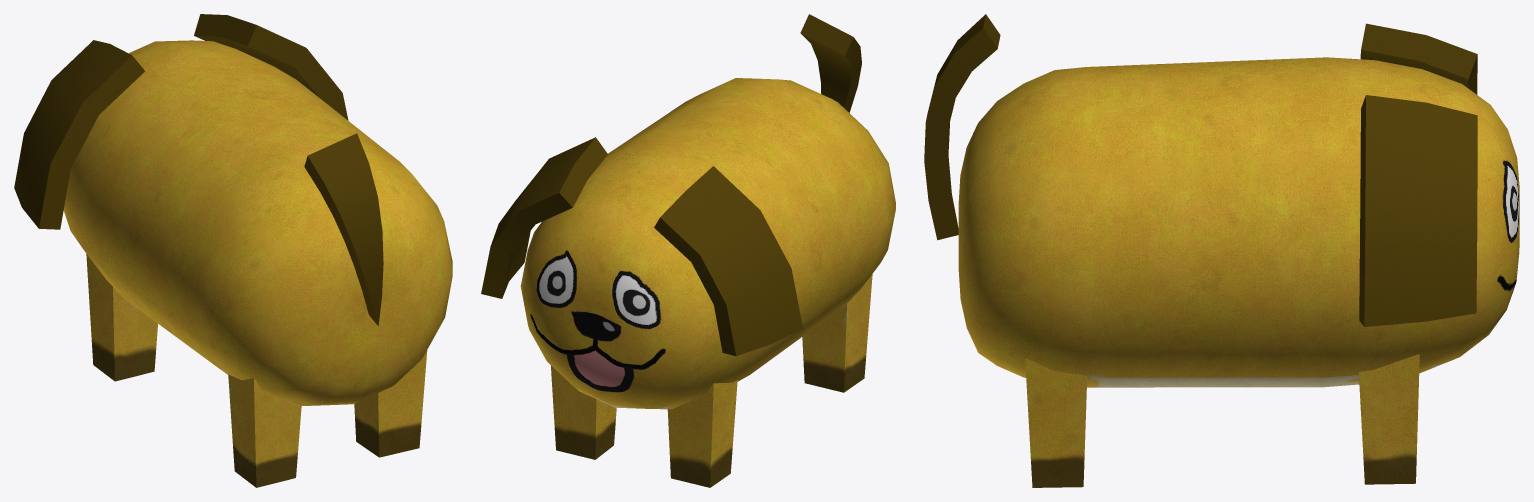
The model's file is spin0.FBX.
3 renders of one model, left to right at view 1: azimuth 30°, elevation 25°; view 2: azimuth 150°, elevation 25°; view 3: azimuth 270°, elevation 25°, orthographic. The views are drawn at different scales.
Visible parts, largest first — view 1: spin0; view 2: spin0; view 3: spin0.
Boxes of the visible parts, <box> form: spin0: <box>14,14,452,487</box>; spin0: <box>481,14,895,487</box>; spin0: <box>924,14,1519,487</box>.
Bounding box in the file's own units: 31.62 × 33.53 × 43.92.
Materials: 1 (1 with a texture image).
